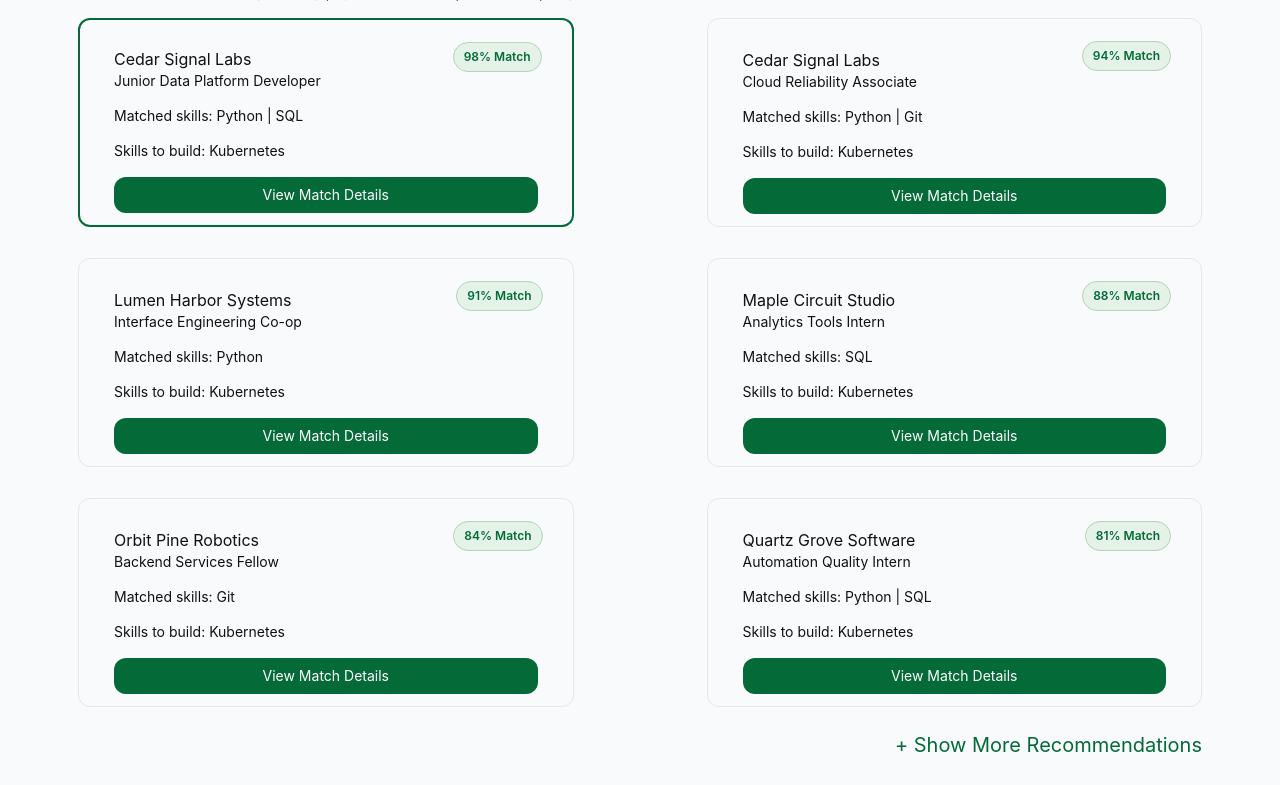
Test: Recommendations › shows the first six roles and supports Show More and Show Fewer
(page scrolled)
Click the button "+ Show More Recommendations". click: point(1048, 745)
box: top-left (78, 729), bottom-right (1202, 761)
(page scrolled)
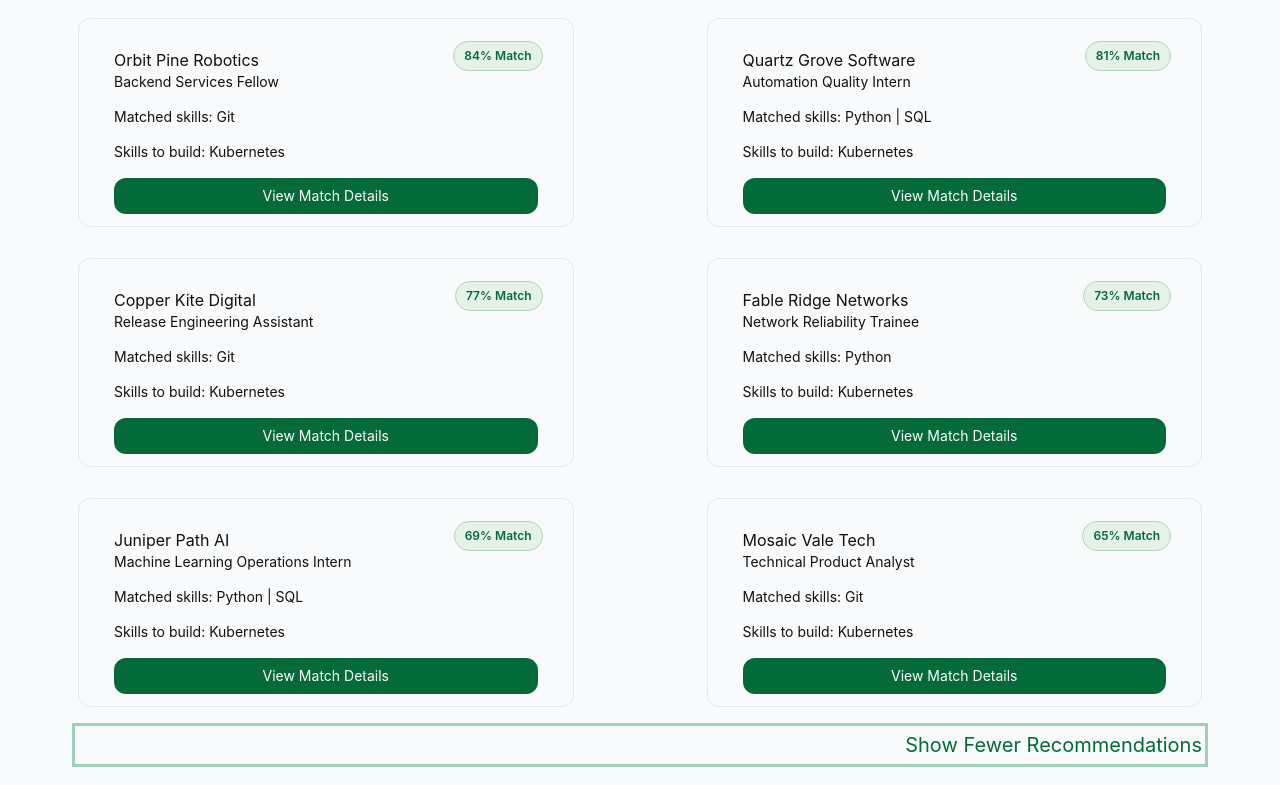
Check: the button "Show Fewer Recommendations" is expanded
Click the button "Show Fewer Recommendations". click: point(1054, 745)
box: top-left (78, 729), bottom-right (1202, 761)
(page scrolled)
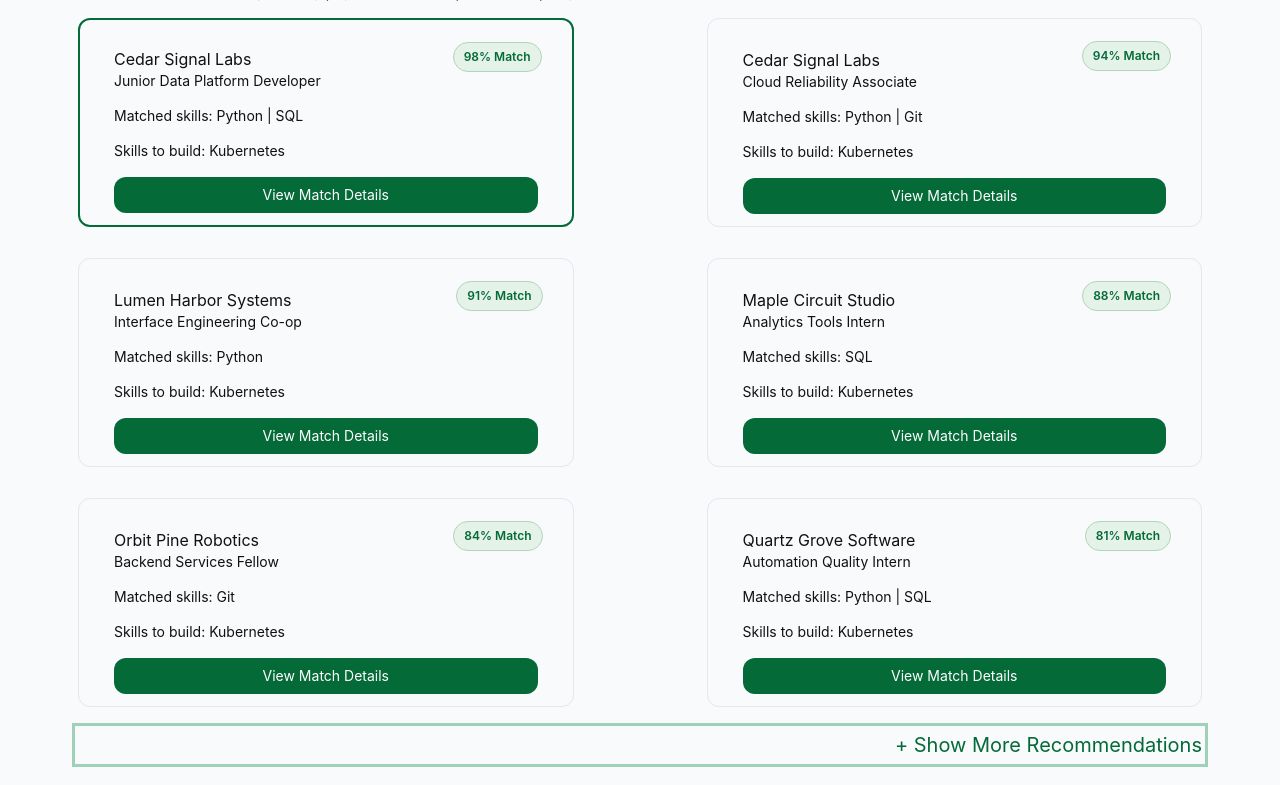
Check: the button "+ Show More Recommendations" is collapsed, box top-left (78, 729), bottom-right (1202, 761)
